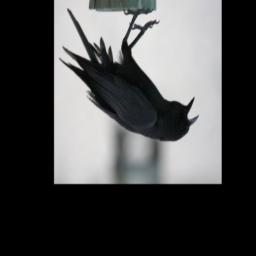Crow: (59, 6, 199, 143)
